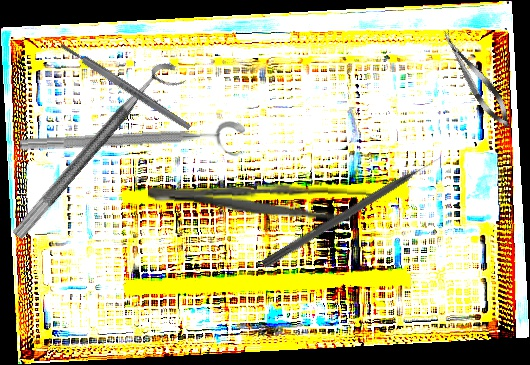Dressing Forceps: (147, 175, 374, 223)
Fixation Ring: (10, 55, 190, 254), (19, 120, 247, 170)
Micro Scissor: (435, 25, 517, 133)
Pusher: (260, 153, 445, 271)
Scalpel Handle: (58, 41, 193, 132)
